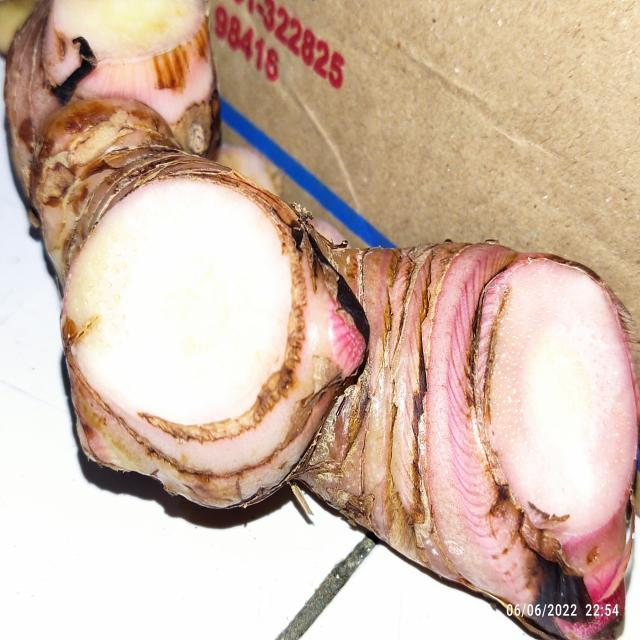ginger: (11, 0, 639, 606)
